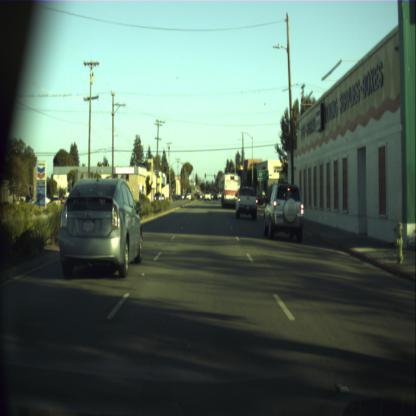off: (204, 173, 206, 177), (214, 174, 215, 178)
